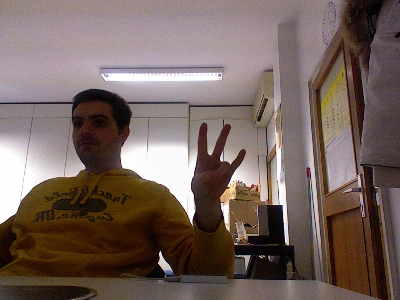观音: (188, 120, 247, 201)
